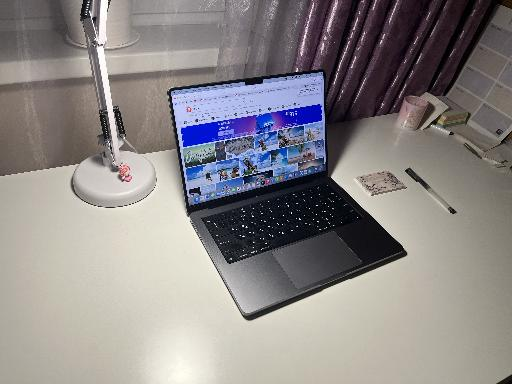yandex: (172, 89, 327, 193)
